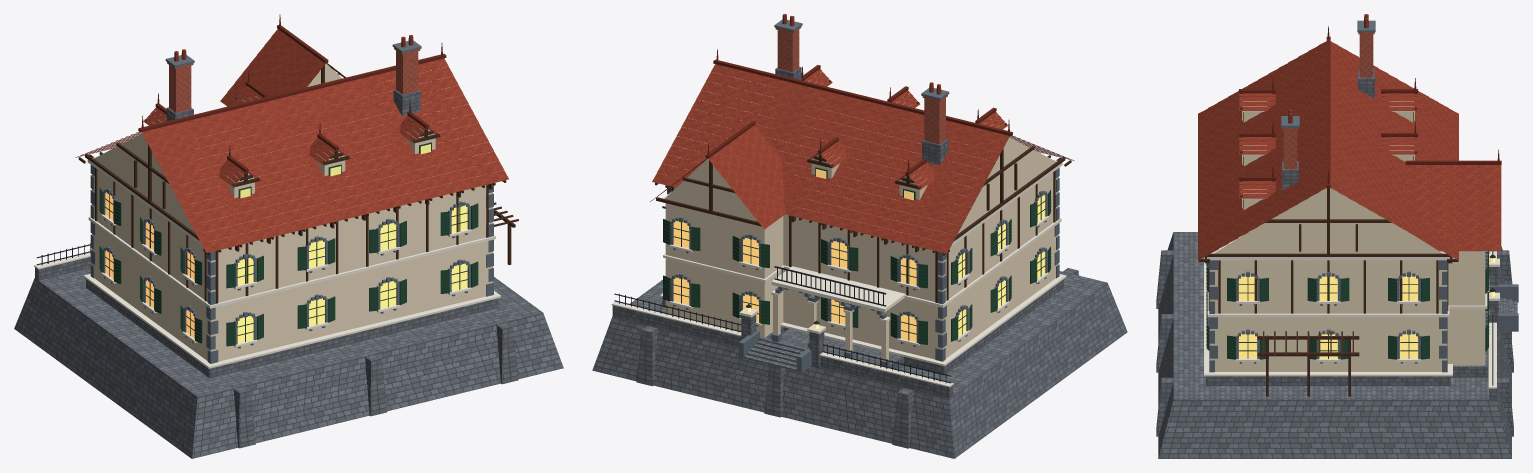
The model's file is fv_lhp_04_le_hong_phong_villa_04_normandy_chalet.glb.
The picture shows the model from 3 angles, left to right: view 1: azimuth 30°, elevation 25°; view 2: azimuth 150°, elevation 25°; view 3: azimuth 270°, elevation 25°; orthographic projection. The views are drawn at different scales.
Parts seen in each view (by area): view 1: Foundation_Skirt_Neg3p5m, Normandy_Brittany_Layered_Roof, Villa_Stucco_Walls, Molded_Cornices_And_Sills, PineGreen_Louvered_Shutters, Stone_Quoins_And_Arches, Exposed_Timber_Trusses_And_Rafters, Warm_Night_Windows_20h00_Blend, Roof_Ridges_Caps_And_Finials, Brick_Chimney_Stacks; view 2: Foundation_Skirt_Neg3p5m, Normandy_Brittany_Layered_Roof, Villa_Stucco_Walls, Molded_Cornices_And_Sills, Stone_Quoins_And_Arches, PineGreen_Louvered_Shutters, Exposed_Timber_Trusses_And_Rafters, Warm_Night_Windows_20h00_Blend, Roof_Ridges_Caps_And_Finials, Wrought_Iron_Balustrades_And_Gate, Brick_Chimney_Stacks; view 3: Normandy_Brittany_Layered_Roof, Foundation_Skirt_Neg3p5m, Villa_Stucco_Walls, Molded_Cornices_And_Sills, Exposed_Timber_Trusses_And_Rafters, Stone_Quoins_And_Arches, PineGreen_Louvered_Shutters, Warm_Night_Windows_20h00_Blend, Roof_Ridges_Caps_And_Finials, Brick_Chimney_Stacks.
Boxes of the visible parts, left/top/right/bottom form: Foundation_Skirt_Neg3p5m: left=14, top=89, right=563, bottom=458; Normandy_Brittany_Layered_Roof: left=142, top=29, right=508, bottom=252; Villa_Stucco_Walls: left=92, top=63, right=492, bottom=361; Molded_Cornices_And_Sills: left=34, top=94, right=500, bottom=368; PineGreen_Louvered_Shutters: left=99, top=142, right=478, bottom=346; Stone_Quoins_And_Arches: left=90, top=40, right=493, bottom=363; Exposed_Timber_Trusses_And_Rafters: left=78, top=65, right=518, bottom=303; Warm_Night_Windows_20h00_Blend: left=105, top=144, right=467, bottom=343; Roof_Ridges_Caps_And_Finials: left=75, top=14, right=446, bottom=180; Brick_Chimney_Stacks: left=167, top=48, right=420, bottom=112; Foundation_Skirt_Neg3p5m: left=592, top=67, right=1127, bottom=458; Normandy_Brittany_Layered_Roof: left=652, top=14, right=1009, bottom=253; Villa_Stucco_Walls: left=664, top=94, right=1058, bottom=361; Molded_Cornices_And_Sills: left=611, top=80, right=1066, bottom=387; Stone_Quoins_And_Arches: left=667, top=19, right=1059, bottom=372; PineGreen_Louvered_Shutters: left=663, top=167, right=1051, bottom=344; Exposed_Timber_Trusses_And_Rafters: left=655, top=69, right=1071, bottom=302; Warm_Night_Windows_20h00_Blend: left=673, top=169, right=1045, bottom=342; Roof_Ridges_Caps_And_Finials: left=650, top=49, right=1074, bottom=201; Wrought_Iron_Balustrades_And_Gate: left=614, top=266, right=951, bottom=383; Brick_Chimney_Stacks: left=775, top=27, right=947, bottom=144; Normandy_Brittany_Layered_Roof: left=1198, top=14, right=1501, bottom=260; Foundation_Skirt_Neg3p5m: left=1156, top=69, right=1517, bottom=458; Villa_Stucco_Walls: left=1210, top=112, right=1485, bottom=371; Molded_Cornices_And_Sills: left=1204, top=101, right=1499, bottom=388; Exposed_Timber_Trusses_And_Rafters: left=1198, top=93, right=1458, bottom=396; Stone_Quoins_And_Arches: left=1207, top=20, right=1518, bottom=372; PineGreen_Louvered_Shutters: left=1206, top=112, right=1489, bottom=359; Warm_Night_Windows_20h00_Blend: left=1239, top=111, right=1495, bottom=358; Roof_Ridges_Caps_And_Finials: left=1239, top=26, right=1501, bottom=187; Brick_Chimney_Stacks: left=1282, top=32, right=1374, bottom=169.
Size of the model in its own units: 26.12 by 20.3 by 21.72.
Materials: 12 (3 with a texture image).
